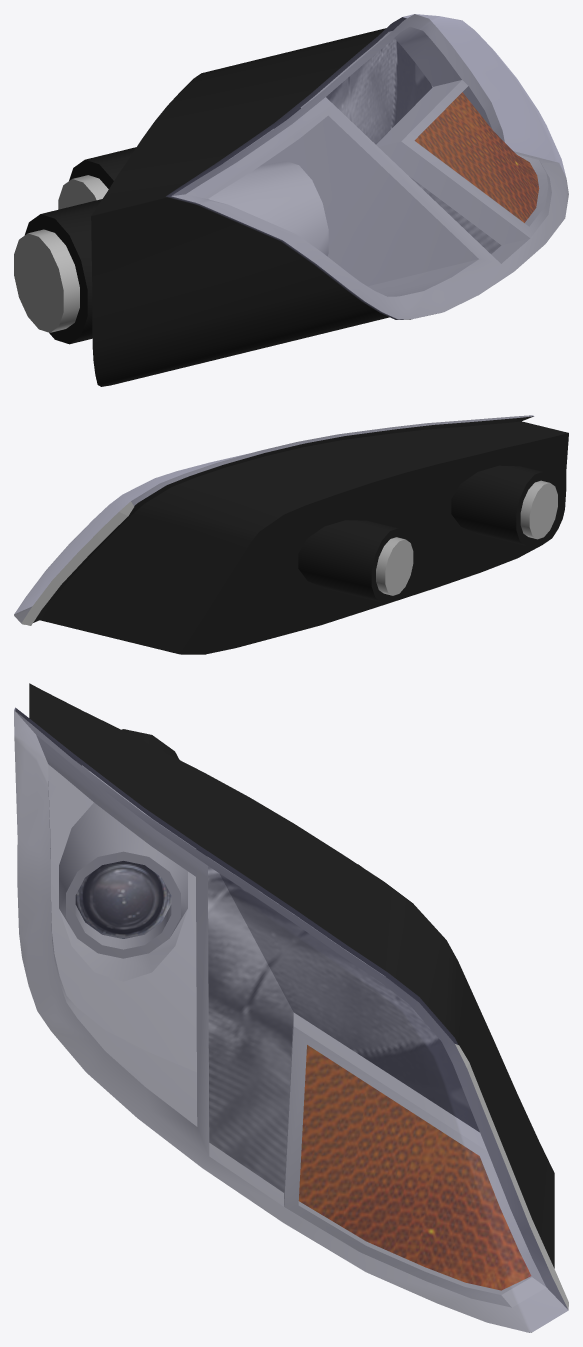
The picture shows the model from 3 angles, top to bottom: view 1: azimuth 30°, elevation 25°; view 2: azimuth 150°, elevation 25°; view 3: azimuth 270°, elevation 25°; orthographic projection. The views are drawn at different scales.
Visible parts, largest first — view 1: P345_061B_R_1_DTaSI_P345_061B_R, P345_061B_R_P345_061B_R_6_D, P345_061B_R_P345_061B_R_5_DaS, P345_061B_R_P345_061B_R_4_N, P345_061B_R_P345_061B_R_3_N; view 2: P345_061B_R_P345_061B_R_6_D, P345_061B_R_P345_061B_R_5_DaS, P345_061B_R_1_DTaSI_P345_061B_R; view 3: P345_061B_R_1_DTaSI_P345_061B_R, P345_061B_R_P345_061B_R_5_DaS, P345_061B_R_P345_061B_R_6_D, P345_061B_R_P345_061B_R_3_N, P345_061B_R_P345_061B_R_4_N, P345_061B_R_P345_061B_R_2_N.
Boxes of the visible parts, <box> form: P345_061B_R_1_DTaSI_P345_061B_R: <box>166,14,568,319</box>; P345_061B_R_P345_061B_R_6_D: <box>25,17,411,386</box>; P345_061B_R_P345_061B_R_5_DaS: <box>14,14,568,332</box>; P345_061B_R_P345_061B_R_4_N: <box>415,92,538,222</box>; P345_061B_R_P345_061B_R_3_N: <box>326,38,500,253</box>; P345_061B_R_P345_061B_R_6_D: <box>22,416,568,654</box>; P345_061B_R_P345_061B_R_5_DaS: <box>14,415,557,625</box>; P345_061B_R_1_DTaSI_P345_061B_R: <box>14,415,534,623</box>; P345_061B_R_1_DTaSI_P345_061B_R: <box>14,708,568,1332</box>; P345_061B_R_P345_061B_R_5_DaS: <box>14,710,568,1332</box>; P345_061B_R_P345_061B_R_6_D: <box>15,683,554,1332</box>; P345_061B_R_P345_061B_R_3_N: <box>208,866,479,1192</box>; P345_061B_R_P345_061B_R_4_N: <box>299,1045,530,1290</box>; P345_061B_R_P345_061B_R_2_N: <box>75,861,171,938</box>.
Bounding box in the file's own units: 52.44 × 22.01 × 35.36.
